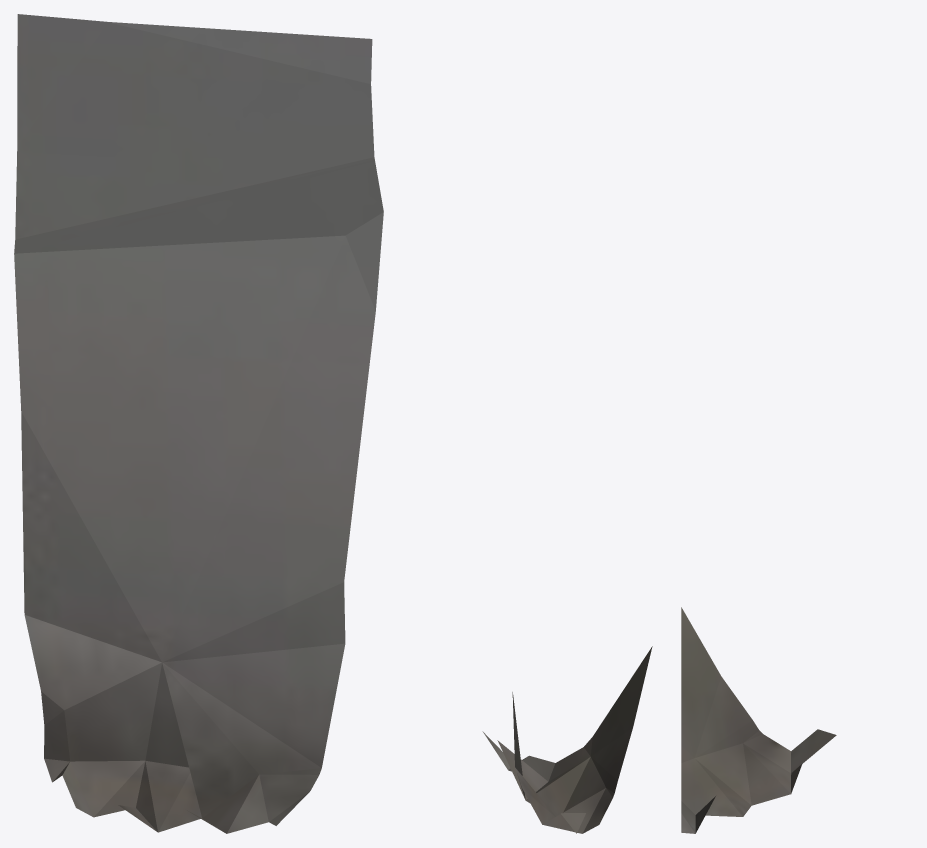
3 renders of one model, left to right at view 1: azimuth 30°, elevation 25°; view 2: azimuth 150°, elevation 25°; view 3: azimuth 270°, elevation 25°, orthographic. The views are drawn at different scales.
Size of the model in its own units: 0.1288 by 0.3791 by 0.1042.
Materials: 1 (1 with a texture image).
